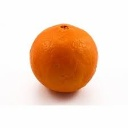orange: (29, 22, 100, 95)
